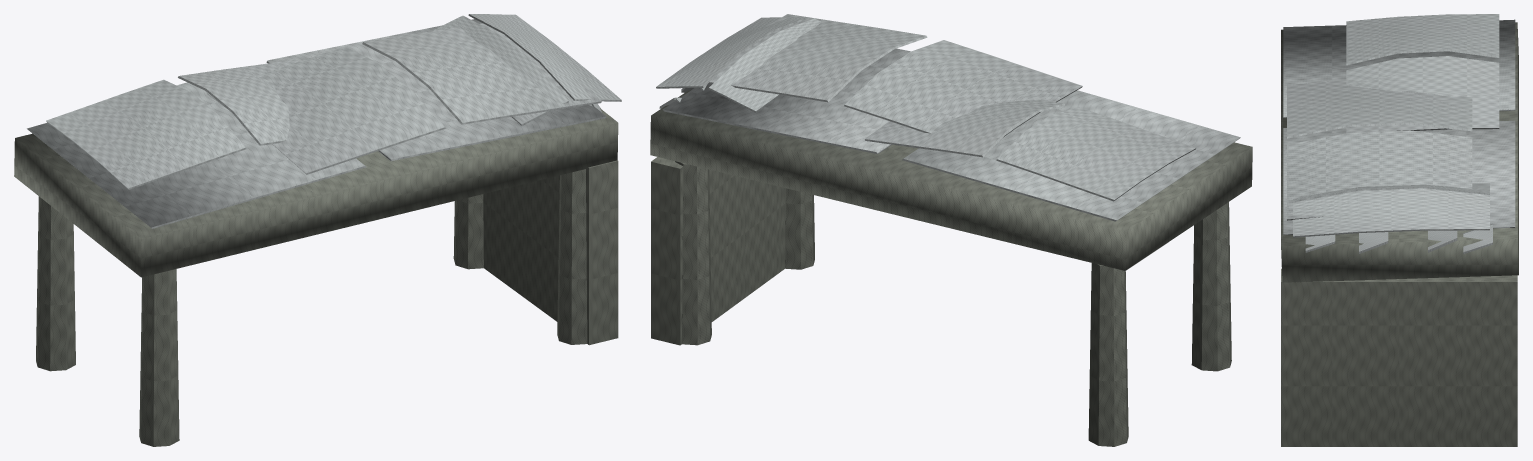
Rendered from gallery-lod.glb.
3 views of the same model, side by side, from view 1: azimuth 30°, elevation 25°; view 2: azimuth 150°, elevation 25°; view 3: azimuth 270°, elevation 25° (orthographic). The views are drawn at different scales.
Parts seen in each view (by area): view 1: gallery-heavy-concrete-roof, gallery-donor-snow-heap-0, gallery-roof-snow, gallery-donor-snow-heap-1, gallery-solid-uphill-back, gallery-concrete-pillar.001, gallery-donor-snow-heap-2, gallery-concrete-pillar, gallery-concrete-pillar.003, gallery-concrete-pillar.002; view 2: gallery-heavy-concrete-roof, gallery-donor-snow-heap-0, gallery-roof-snow, gallery-donor-snow-heap-1, gallery-solid-uphill-back, gallery-concrete-pillar, gallery-concrete-pillar.001, gallery-donor-snow-heap-2, gallery-concrete-pillar.002, gallery-concrete-pillar.003; view 3: gallery-solid-uphill-back, gallery-donor-snow-heap-0, gallery-donor-snow-heap-1, gallery-heavy-concrete-roof, gallery-roof-snow, gallery-donor-snow-heap-2, gallery-donor-snow-spill-3, gallery-donor-snow-spill-1, gallery-donor-snow-spill-2, gallery-donor-snow-spill-0.
Part boxes in pixels (x1=…): gallery-heavy-concrete-roof: x1=14, y1=108, x2=618, y2=277; gallery-donor-snow-heap-0: x1=206, y1=23, x2=601, y2=174; gallery-roof-snow: x1=27, y1=19, x2=606, y2=228; gallery-donor-snow-heap-1: x1=46, y1=59, x2=298, y2=189; gallery-solid-uphill-back: x1=483, y1=160, x2=618, y2=345; gallery-concrete-pillar.001: x1=139, y1=269, x2=179, y2=446; gallery-donor-snow-heap-2: x1=432, y1=14, x2=621, y2=125; gallery-concrete-pillar: x1=36, y1=196, x2=75, y2=371; gallery-concrete-pillar.003: x1=557, y1=169, x2=587, y2=344; gallery-concrete-pillar.002: x1=453, y1=194, x2=483, y2=269; gallery-heavy-concrete-roof: x1=650, y1=89, x2=1252, y2=270; gallery-donor-snow-heap-0: x1=708, y1=14, x2=1082, y2=137; gallery-roof-snow: x1=662, y1=48, x2=1240, y2=221; gallery-donor-snow-heap-1: x1=865, y1=99, x2=1196, y2=201; gallery-solid-uphill-back: x1=651, y1=157, x2=785, y2=345; gallery-concrete-pillar: x1=1088, y1=263, x2=1128, y2=446; gallery-concrete-pillar.001: x1=1191, y1=202, x2=1231, y2=371; gallery-donor-snow-heap-2: x1=656, y1=17, x2=820, y2=112; gallery-concrete-pillar.002: x1=675, y1=161, x2=711, y2=345; gallery-concrete-pillar.003: x1=785, y1=188, x2=814, y2=269; gallery-solid-uphill-back: x1=1281, y1=268, x2=1517, y2=446; gallery-donor-snow-heap-0: x1=1287, y1=80, x2=1472, y2=220; gallery-donor-snow-heap-1: x1=1346, y1=14, x2=1499, y2=133; gallery-heavy-concrete-roof: x1=1281, y1=22, x2=1518, y2=282; gallery-roof-snow: x1=1283, y1=19, x2=1515, y2=235; gallery-donor-snow-heap-2: x1=1293, y1=183, x2=1489, y2=237; gallery-donor-snow-spill-3: x1=1463, y1=223, x2=1492, y2=253; gallery-donor-snow-spill-1: x1=1359, y1=232, x2=1388, y2=253; gallery-donor-snow-spill-2: x1=1428, y1=230, x2=1457, y2=252; gallery-donor-snow-spill-0: x1=1305, y1=234, x2=1335, y2=252.
Size of the model in its own units: 13.27 by 6.92 by 6.04.
2 materials, 2 textured.
